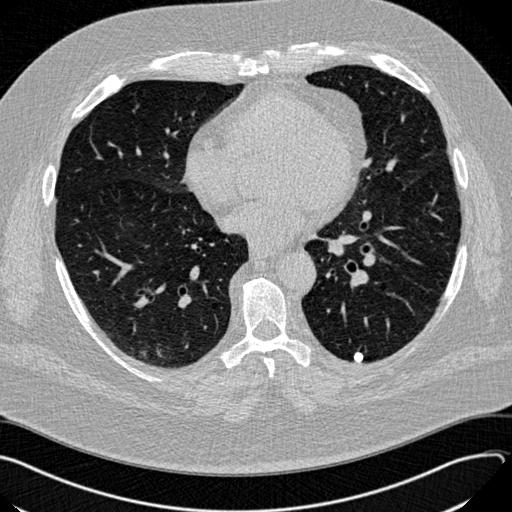nodule: (350, 349, 366, 365)
